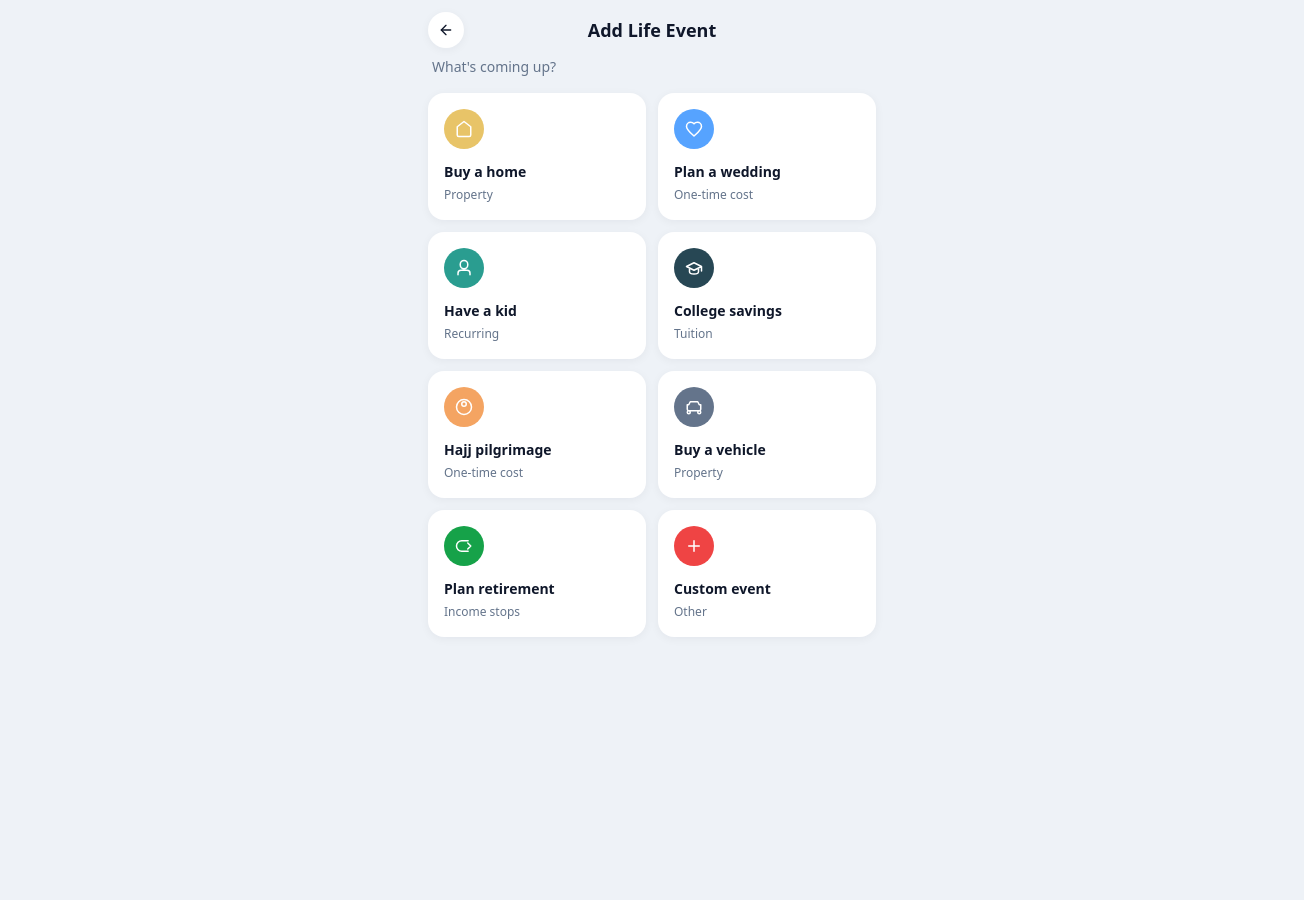
NewEventPage › shows Step A category grid, then advances to Step B on tile click
Click the text "Buy a home" at (485, 172), box [444, 162, 526, 181]
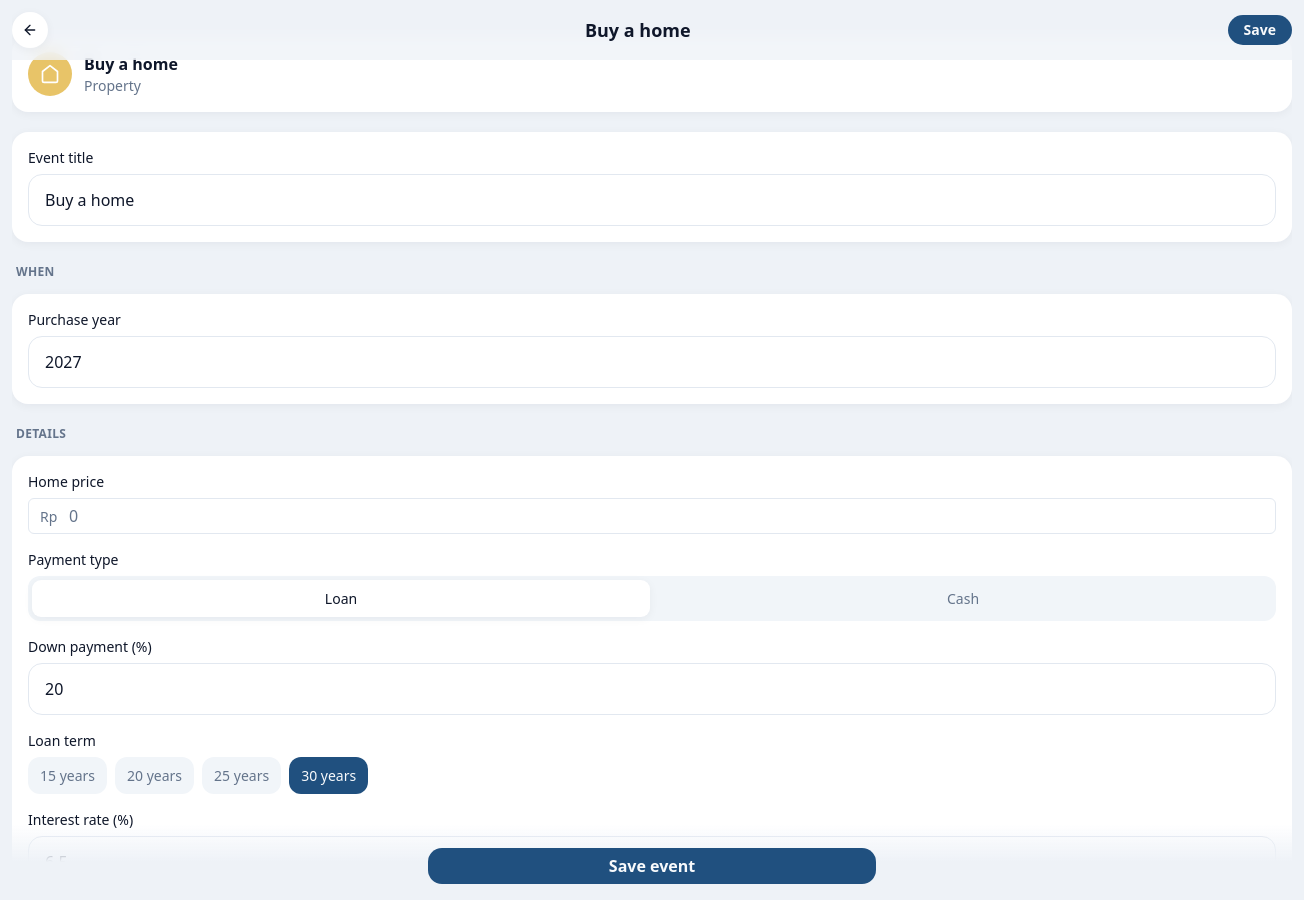
Result: the button "Save event" is shown at [428, 848, 876, 884]
